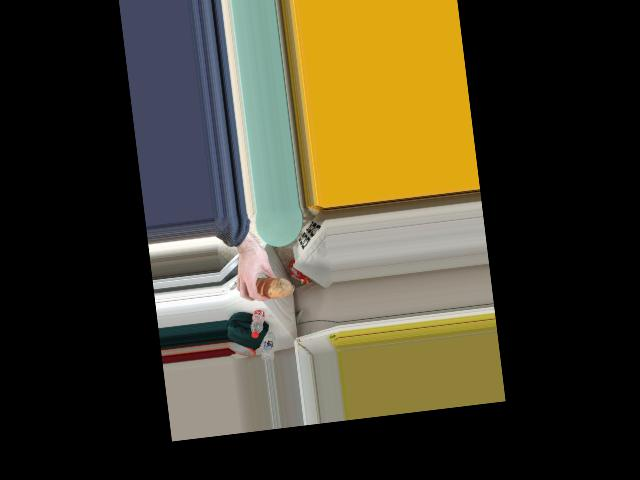sweet_potato: (244, 264, 283, 298)
